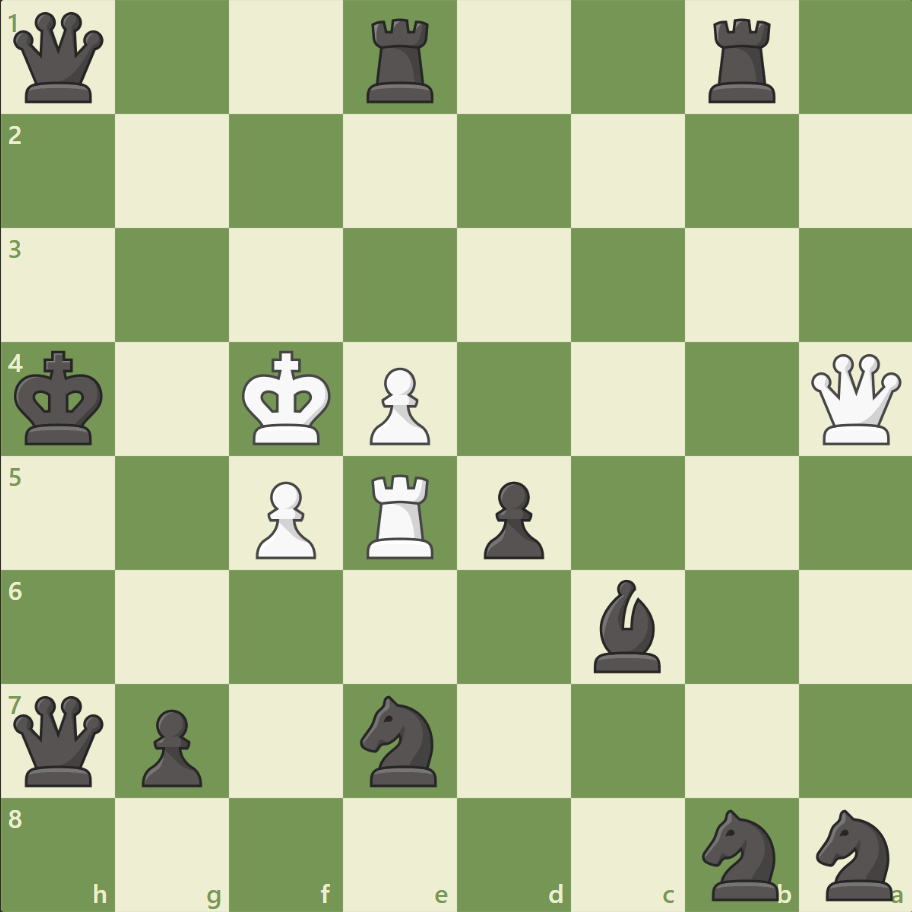K: (238, 344, 338, 452)
P: (247, 473, 322, 564), (361, 359, 435, 450)
Q: (805, 349, 904, 449)
R: (360, 466, 442, 563)
b: (585, 574, 669, 676)
k: (11, 344, 111, 452)
n: (351, 688, 449, 791), (806, 802, 903, 904), (692, 802, 789, 904)
p: (133, 700, 208, 791), (474, 473, 549, 564)
q: (10, 690, 109, 789), (10, 9, 109, 108)
r: (700, 12, 783, 109), (360, 12, 442, 109)
